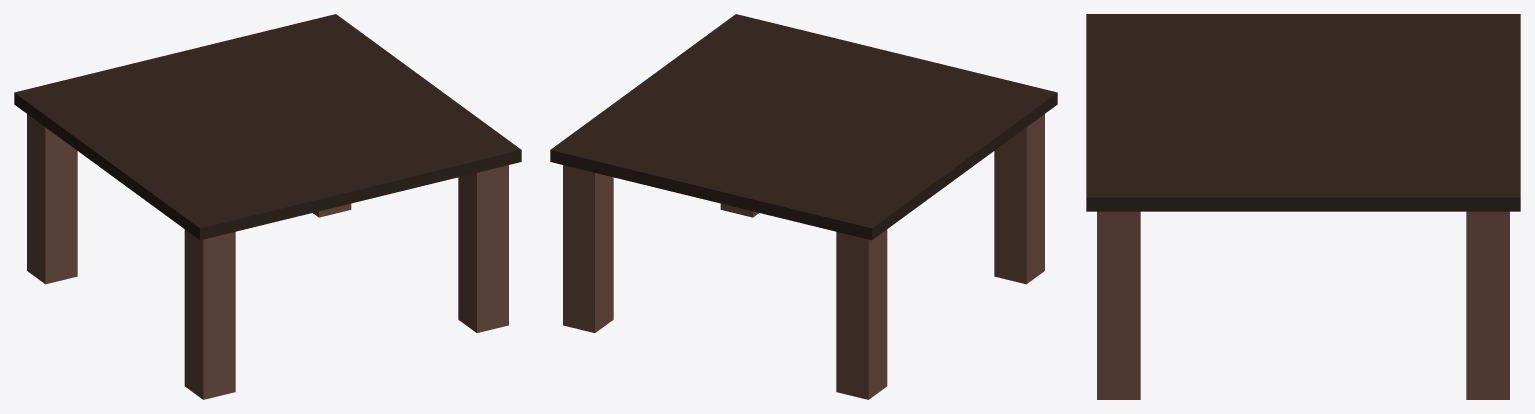
File: table_debris.fbx
3 renders of one model, left to right at view 1: azimuth 30°, elevation 25°; view 2: azimuth 150°, elevation 25°; view 3: azimuth 270°, elevation 25°, orthographic. The views are drawn at different scales.
Visible parts, largest first — view 1: Table.001, Table.001_cell, Leg 2.001, Leg 1.001, Leg 4.001, Leg 1.001_cell.001, Table.001_cell.001, Leg 1.001_cell, Leg 4.001_cell, Leg 2.001_cell, Leg 4.001_cell.001; view 2: Table.001, Table.001_cell.001, Leg 1.001, Leg 4.001, Leg 4.001_cell.001, Leg 3.001, Leg 3.001_cell.001, Leg 3.001_cell, Leg 4.001_cell, Leg 1.001_cell, Table.001_cell, Leg 1.001_cell.001; view 3: Table.001, Table.001_cell, Leg 2.001, Leg 2.001_cell, Leg 3.001, Leg 3.001_cell, Leg 2.001_cell.001.
Boxes of the visible parts, x1,y1,x2,y2 form: Table.001: (14,14,521,240); Table.001_cell: (200,27,521,239); Leg 2.001: (458,165,508,332); Leg 1.001: (185,231,235,399); Leg 4.001: (27,122,77,284); Leg 1.001_cell.001: (184,229,235,313); Table.001_cell.001: (14,93,199,239); Leg 1.001_cell: (184,294,229,399); Leg 4.001_cell: (27,178,45,283); Leg 2.001_cell: (458,174,472,321); Leg 4.001_cell.001: (27,114,42,189); Table.001: (550,14,1057,239); Table.001_cell.001: (550,93,1057,240); Leg 1.001: (994,114,1044,284); Leg 4.001: (836,230,887,399); Leg 4.001_cell.001: (836,229,887,306); Leg 3.001: (563,173,613,332); Leg 3.001_cell.001: (563,165,602,260); Leg 3.001_cell: (563,254,594,332); Leg 4.001_cell: (836,298,887,399); Leg 1.001_cell: (1026,190,1044,283); Table.001_cell: (683,15,845,56); Leg 1.001_cell.001: (1005,134,1044,189); Table.001: (1086,14,1520,211); Table.001_cell: (1086,22,1520,211); Leg 2.001: (1097,211,1140,399); Leg 2.001_cell: (1097,211,1140,399); Leg 3.001: (1466,211,1509,378); Leg 3.001_cell: (1466,317,1509,399); Leg 2.001_cell.001: (1097,267,1122,399).
Bounding box in the file's own units: 200 × 105 × 200.
